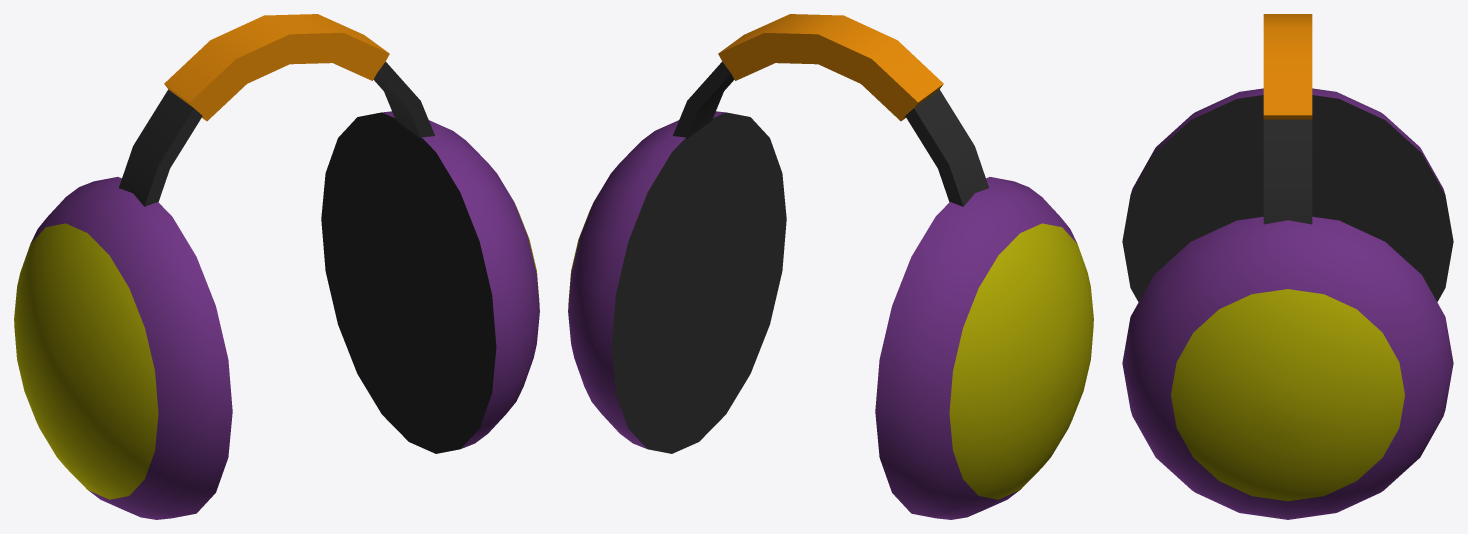
File: Headphones.fbx
3 views of the same model, side by side, from view 1: azimuth 30°, elevation 25°; view 2: azimuth 150°, elevation 25°; view 3: azimuth 270°, elevation 25° (orthographic). The views are drawn at different scales.
Visible parts, largest first — view 1: pSphere4, pCylinder11; view 2: pSphere4, pCylinder11; view 3: pSphere4, pCylinder11.
Boxes of the visible parts, bbox=[...] form: pSphere4: bbox=[14, 111, 539, 519]; pCylinder11: bbox=[119, 14, 434, 206]; pSphere4: bbox=[568, 111, 1093, 519]; pCylinder11: bbox=[673, 14, 988, 206]; pSphere4: bbox=[1122, 88, 1453, 519]; pCylinder11: bbox=[1263, 14, 1312, 224].
Size of the model in its own units: 18.02 by 16.84 by 11.9.
